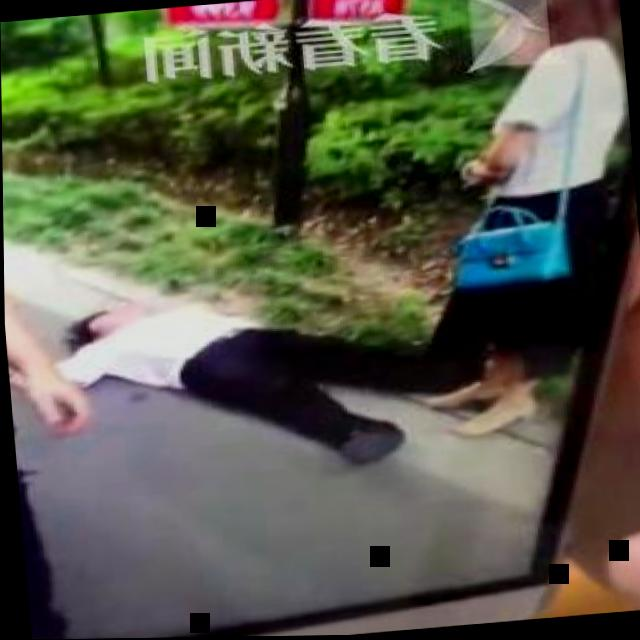Fall-Detected: (27, 265, 535, 487)
